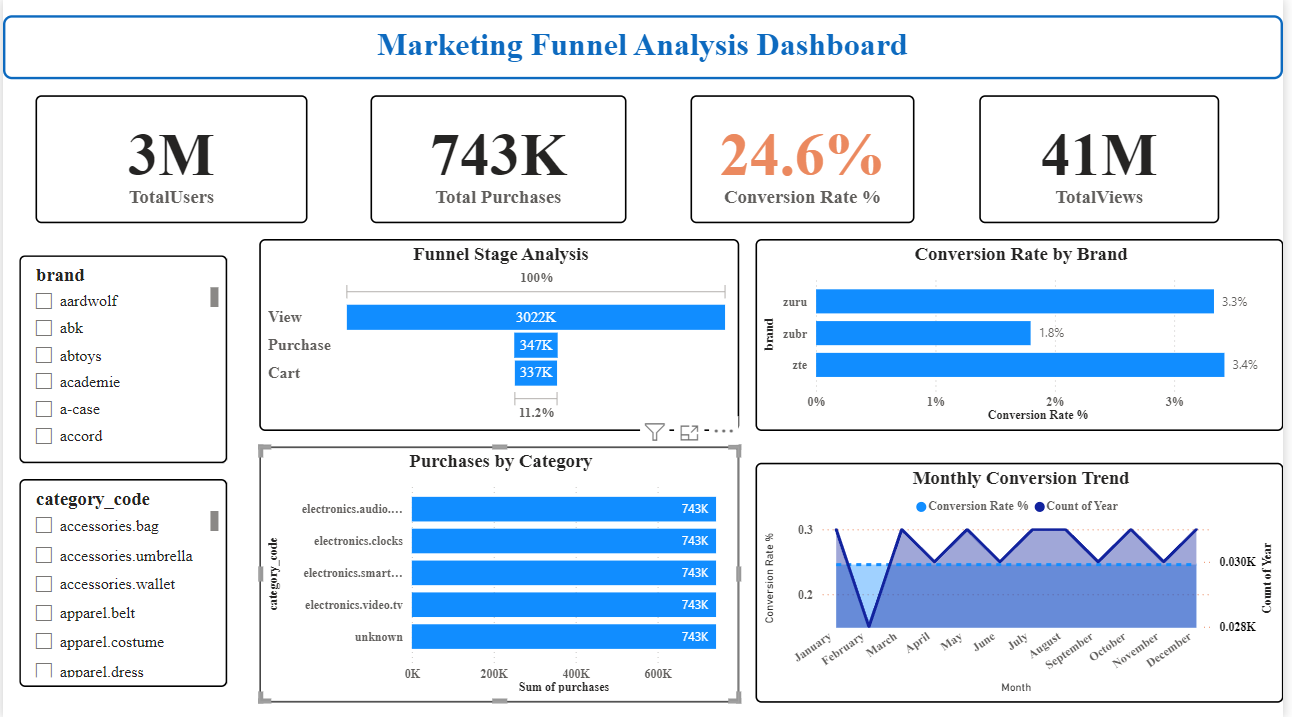

What the dashboard file says about the page in this screenshot:
{"tool":"powerbi","page":{"name":"Page 1","canvas":[1280,720],"ordinal":0},"visuals":[{"type":"textbox","box":[0,16,1280,64],"z":0},{"type":"card","fields":{"Values":["archivecleaned_data.TotalUsers"]},"box":[32,96,272,128],"z":1000},{"type":"card","fields":{"Values":["archivebrand_analysis.Total Purchases"]},"box":[368,96,256,128],"z":2000},{"type":"card","fields":{"Values":["archivebrand_analysis.Conversion Rate %"]},"box":[688,96,224,128],"z":3000},{"type":"funnel","title":"Funnel Stage Analysis","fields":{"Category":["archivefunnel_data.Stage"],"Y":["Sum(archivefunnel_data.Users)"]},"box":[256,240,480,192],"z":4000},{"type":"card","fields":{"Values":["archivecleaned_data.TotalViews"]},"box":[976,96,240,128],"z":5000},{"type":"barChart","title":"Conversion Rate by Brand","fields":{"Category":["archivebrand_analysis.brand"],"Y":["archivebrand_analysis.Conversion Rate %"]},"box":[752,240,528,192],"z":6000},{"type":"barChart","title":"Purchases by Category","fields":{"Category":["archivecategory_analysis.category_code"],"Y":["Sum(archivemonthly_analysis.purchases)"]},"box":[256,448,480,256],"z":7000},{"type":"lineChart","title":"Monthly Conversion Trend","fields":{"Category":["archivemonthly_analysis.month.Variation.Date Hierarchy.Month"],"Y2":["CountNonNull(archivemonthly_analysis.month.Variation.Date Hierarchy.Year)"],"Y":["archivebrand_analysis.Conversion Rate %"]},"box":[752,464,528,240],"z":8000},{"type":"slicer","fields":{"Values":["archivecleaned_data.brand"]},"box":[16,256,208,208],"z":9000},{"type":"slicer","fields":{"Values":["archivecategory_analysis.category_code"]},"box":[16,480,208,208],"z":10000}]}

Visuals, with their boxes in screenshot pixels (x1, y1, x2, y2), scaled from the page's 1280x720 canvas onto the 1292x717 screenshot:
textbox: rect(0, 16, 1291, 80)
card - archivecleaned_data.TotalUsers: rect(32, 96, 307, 223)
card - archivebrand_analysis.Total Purchases: rect(371, 96, 630, 223)
card - archivebrand_analysis.Conversion Rate %: rect(694, 96, 921, 223)
"Funnel Stage Analysis" funnel: rect(258, 239, 743, 430)
card - archivecleaned_data.TotalViews: rect(985, 96, 1227, 223)
"Conversion Rate by Brand" barChart: rect(759, 239, 1291, 430)
"Purchases by Category" barChart: rect(258, 446, 743, 701)
"Monthly Conversion Trend" lineChart: rect(759, 462, 1291, 701)
slicer - archivecleaned_data.brand: rect(16, 255, 226, 462)
slicer - archivecategory_analysis.category_code: rect(16, 478, 226, 685)
